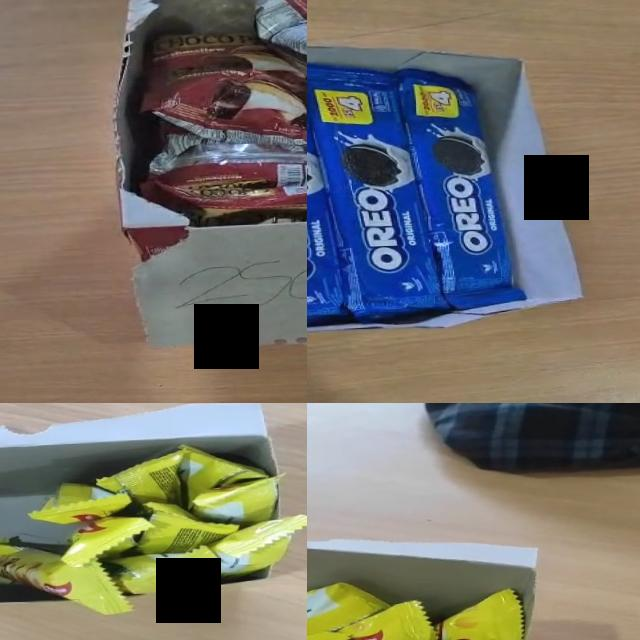Ahh: (0, 533, 135, 617), (201, 512, 307, 578), (178, 440, 270, 509), (132, 498, 240, 555), (103, 544, 220, 594), (190, 473, 288, 527), (94, 450, 184, 507), (26, 479, 133, 526), (61, 516, 156, 566), (435, 589, 523, 640), (307, 583, 384, 634), (337, 601, 431, 640)
Chocopie: (134, 26, 307, 151), (138, 136, 307, 229), (251, 0, 307, 88)
Oreo: (307, 56, 454, 327), (394, 64, 527, 312), (307, 62, 352, 331)
